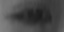LeftEyeFatigue: (5, 5, 56, 29)
